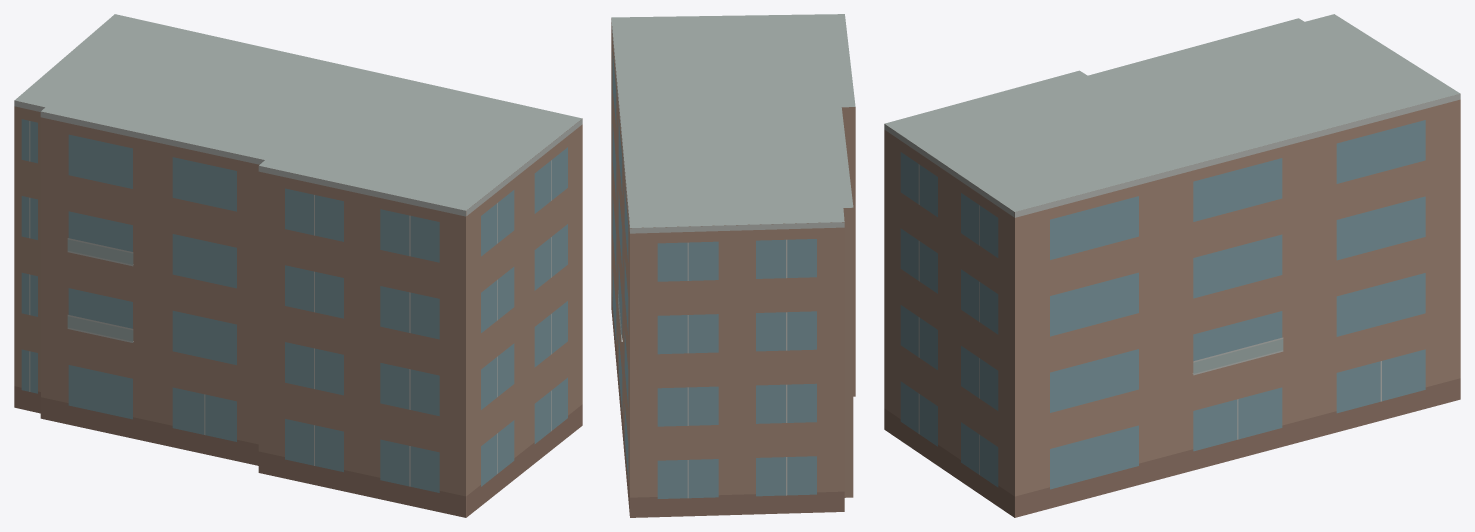
File: survey-upis-32666533.glb
3 views of the same model, side by side, from view 1: azimuth 30°, elevation 25°; view 2: azimuth 150°, elevation 25°; view 3: azimuth 270°, elevation 25° (orthographic). The views are drawn at different scales.
Parts seen in each view (by area): view 1: survey-upis-32666533.tmp; view 2: survey-upis-32666533.tmp; view 3: survey-upis-32666533.tmp.
Part boxes in pixels (bbox=[...]): survey-upis-32666533.tmp: bbox=[14, 14, 582, 517]; survey-upis-32666533.tmp: bbox=[611, 14, 855, 517]; survey-upis-32666533.tmp: bbox=[884, 14, 1460, 517].
Bounding box in the file's own units: 17.79 × 12.8 × 21.87.
